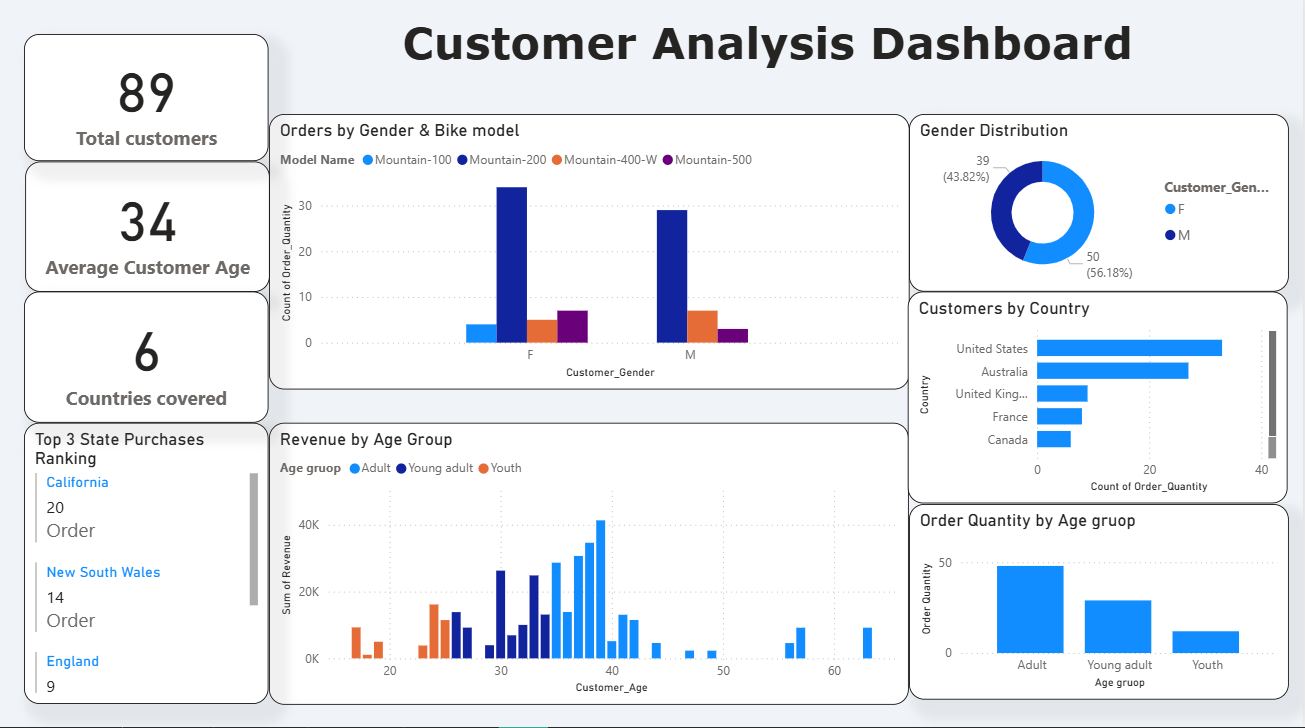

The page's visual inventory and layout, read from the dashboard file:
{"tool":"powerbi","page":{"name":"Page 1","canvas":[1280,720],"ordinal":2},"visuals":[{"type":"donutChart","title":"Gender Distribution","fields":{"Category":["Bike Sales.Customer_Gender"],"Y":["CountNonNull(Bike Sales.Order_Quantity)"]},"box":[893.7,117.9,372.8,174.1],"z":0},{"type":"card","fields":{"Values":["Avg(Bike Sales.Customer_Age)"]},"box":[26.1,164.7,240.1,127.6],"z":0,"group":"g1"},{"type":"clusteredColumnChart","title":"Orders by Gender & Bike model","fields":{"Y":["CountNonNull(Bike Sales.Order_Quantity)"],"Category":["Bike Sales.Customer_Gender"],"Series":["Bike Sales.Model Name"]},"box":[264.6,117.9,629.2,270],"z":1000},{"type":"multiRowCard","title":"Top 3 State Purchases Ranking","fields":{"Values":["CountNonNull(Bike Sales.Order_Quantity)","Bike Sales.State"]},"box":[24.7,421.3,240.1,275.8],"z":1000,"group":"g1"},{"type":"card","fields":{"Values":["CountNonNull(Bike Sales.Sales_Order #)"]},"box":[24.7,39.8,240.1,124.9],"z":2000,"group":"g1"},{"type":"clusteredColumnChart","fields":{"Y":["CountNonNull(Bike Sales.Order_Quantity)"],"Category":["Bike Sales.Age gruop"]},"box":[893.7,500.3,372.8,191.9],"z":2000},{"type":"card","fields":{"Values":["Count(Bike Sales.Country)"]},"box":[24.7,292.3,240.1,129],"z":3000,"group":"g1"},{"type":"columnChart","title":" Revenue by Age Group","fields":{"Category":["Bike Sales.Customer_Age"],"Y":["Sum(Bike Sales.Revenue)"],"Series":["Bike Sales.Age gruop"]},"box":[264.6,420.8,627.8,276.9],"z":3000},{"type":"group","id":"g1","title":"Group 1","box":[24.7,39.8,241.5,657.3],"z":4000},{"type":"barChart","title":"Customers by Country","fields":{"Category":["Bike Sales.Country"],"Y":["CountNonNull(Bike Sales.Order_Quantity)"]},"box":[892.4,292,372.8,208.4],"z":5000},{"type":"textbox","box":[371.5,16.4,762.1,86.4],"z":6000}]}

Visuals, with their boxes in screenshot pixels (x1, y1, x2, y2), scaled from the page's 1280x720 canvas onto the 1305x728 screenshot:
"Gender Distribution" donutChart: rect(911, 119, 1291, 295)
card - Avg(Bike Sales.Customer_Age): rect(27, 167, 271, 296)
"Orders by Gender & Bike model" clusteredColumnChart: rect(270, 119, 911, 392)
"Top 3 State Purchases Ranking" multiRowCard: rect(25, 426, 270, 705)
card - CountNonNull(Bike Sales.Sales_Order #): rect(25, 40, 270, 167)
clusteredColumnChart - CountNonNull(Bike Sales.Order_Quantity) x Bike Sales.Age gruop: rect(911, 506, 1291, 700)
card - Count(Bike Sales.Country): rect(25, 296, 270, 426)
" Revenue by Age Group" columnChart: rect(270, 425, 910, 705)
"Group 1" group: rect(25, 40, 271, 705)
"Customers by Country" barChart: rect(910, 295, 1290, 506)
textbox: rect(379, 17, 1156, 104)
